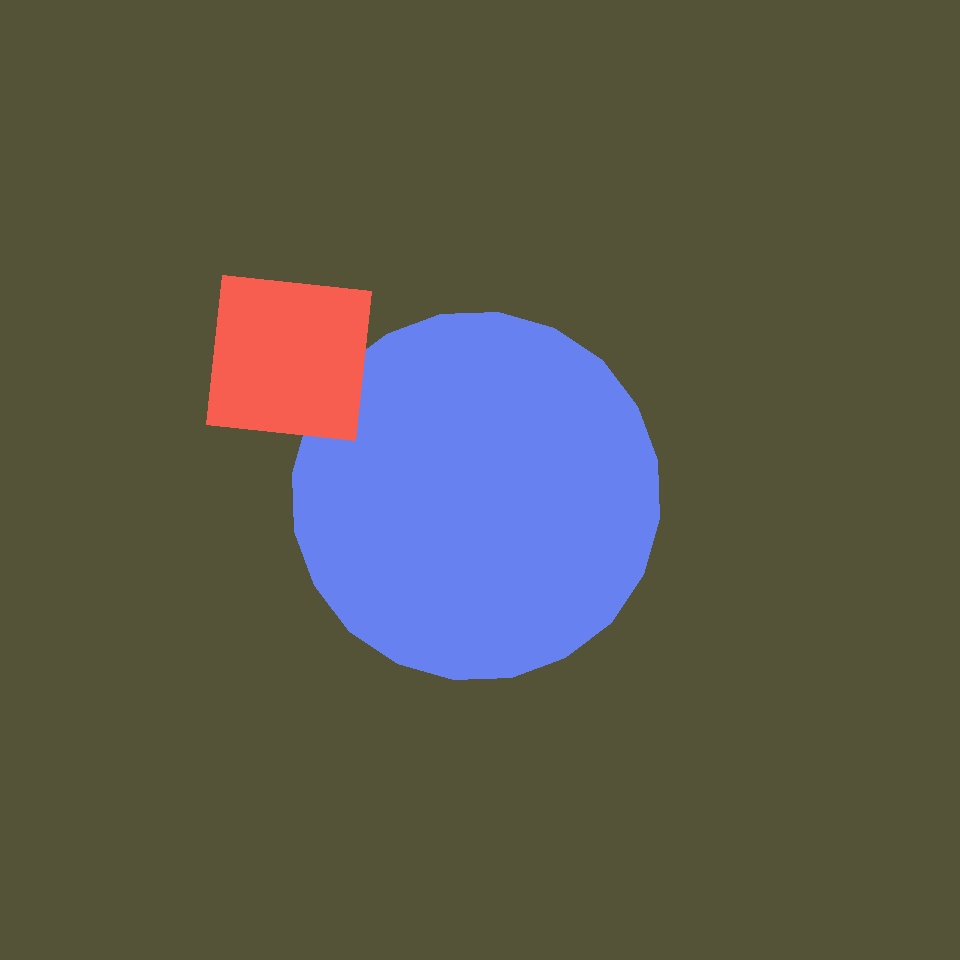circle: (435, 716, 636, 900)
square: (214, 548, 592, 926), (206, 276, 372, 440)
triangle: (387, 132, 765, 510), (292, 313, 660, 680)
